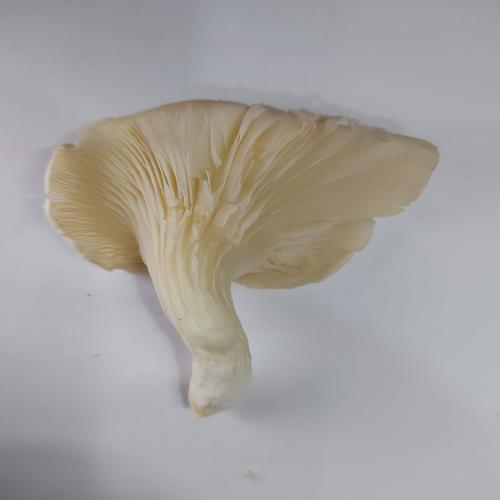Oyster Mushroom: (42, 98, 440, 419)
